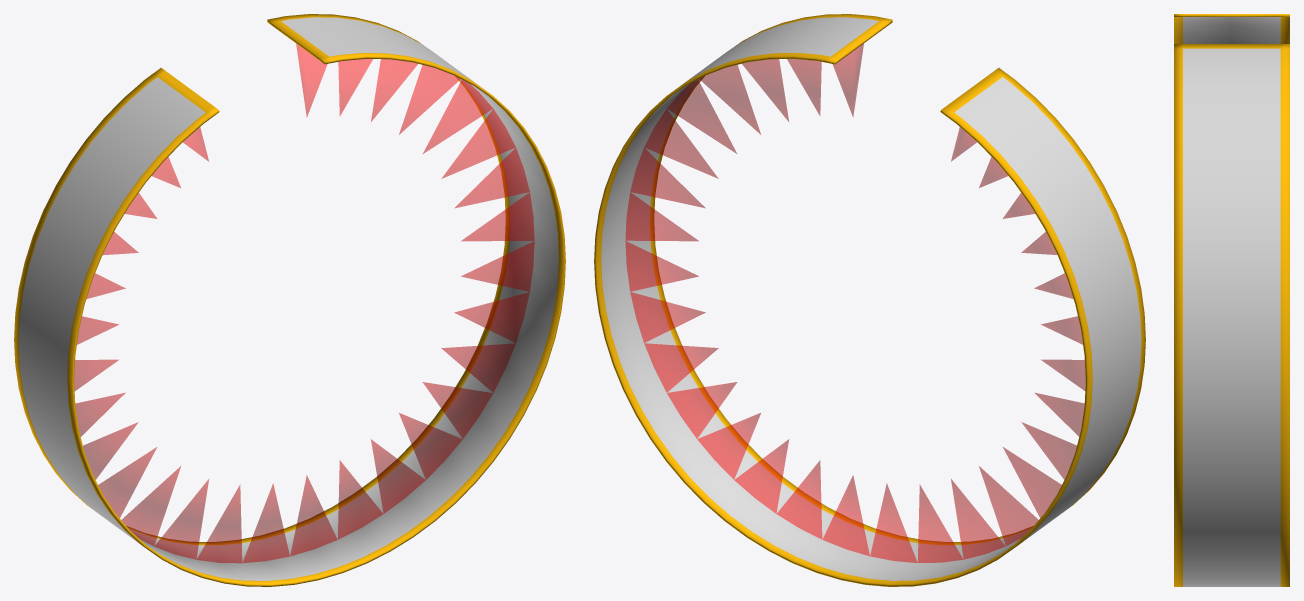
The model's file is FlickNote14.fbx.
3 renders of one model, left to right at view 1: azimuth 30°, elevation 25°; view 2: azimuth 150°, elevation 25°; view 3: azimuth 270°, elevation 25°, orthographic.
Visible parts, largest first — view 1: FlickNote14; view 2: FlickNote14; view 3: FlickNote14.
Part boxes in pixels (x1,y1,x2,y2): FlickNote14: (14,14,565,586); FlickNote14: (594,14,1145,586); FlickNote14: (1174,14,1289,586).
Size of the model in its own units: 198 by 40 by 198.
